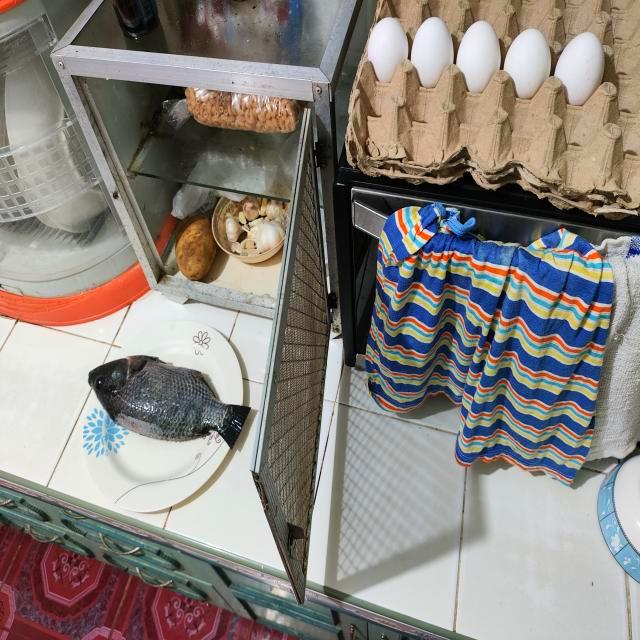egg: (367, 18, 609, 105)
fish: (86, 356, 248, 446)
garlic: (226, 194, 284, 255)
potato: (177, 220, 217, 281)
